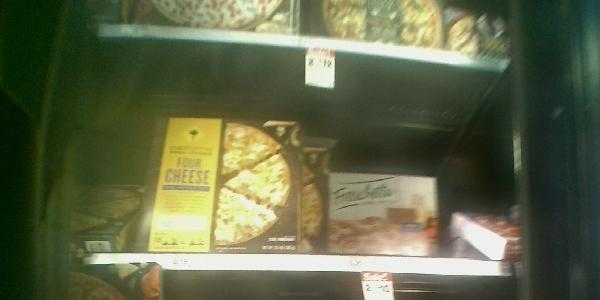pizza: (145, 115, 323, 251), (330, 171, 437, 259), (68, 184, 137, 250)
